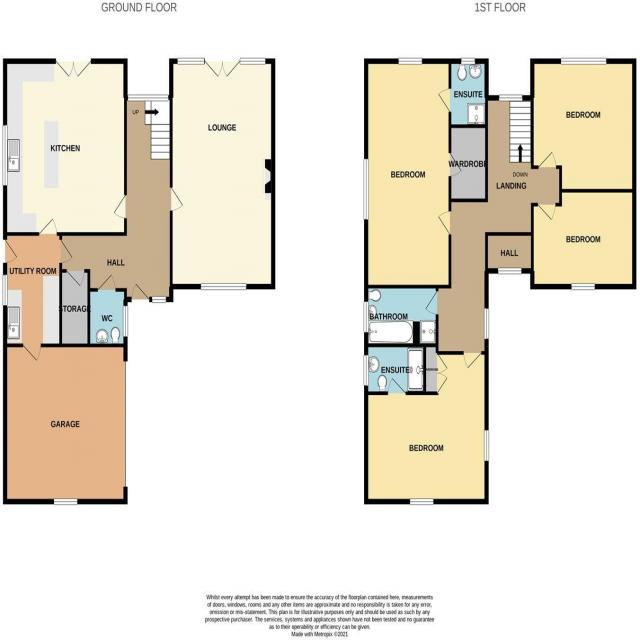DOOR: (434, 208, 453, 240), (447, 149, 465, 179), (422, 288, 440, 318), (536, 148, 559, 171), (460, 350, 483, 373), (435, 86, 453, 114), (168, 186, 186, 213), (536, 201, 558, 223), (385, 376, 408, 397), (2, 237, 19, 265), (65, 267, 86, 289), (112, 193, 128, 221), (96, 272, 117, 293), (130, 282, 150, 304), (38, 216, 58, 237), (22, 343, 42, 364), (58, 238, 74, 264)
DOUBLE DOOR: (203, 56, 241, 81), (52, 57, 93, 79)
ROOM: (168, 56, 277, 291), (2, 56, 128, 237), (362, 57, 453, 290), (364, 342, 489, 505), (529, 57, 637, 194), (530, 188, 637, 290)
WINDOW: (0, 122, 9, 189), (559, 55, 608, 67), (362, 158, 371, 222), (127, 92, 169, 103), (200, 282, 247, 291), (482, 429, 491, 464), (483, 306, 491, 342), (498, 93, 524, 104), (570, 281, 596, 292), (362, 300, 370, 335), (362, 353, 370, 387), (496, 266, 523, 276), (176, 57, 205, 66), (397, 56, 423, 66), (409, 497, 435, 507), (239, 56, 266, 65), (1, 274, 8, 307), (122, 305, 129, 338), (53, 497, 78, 506), (460, 56, 475, 67), (151, 295, 167, 304)
